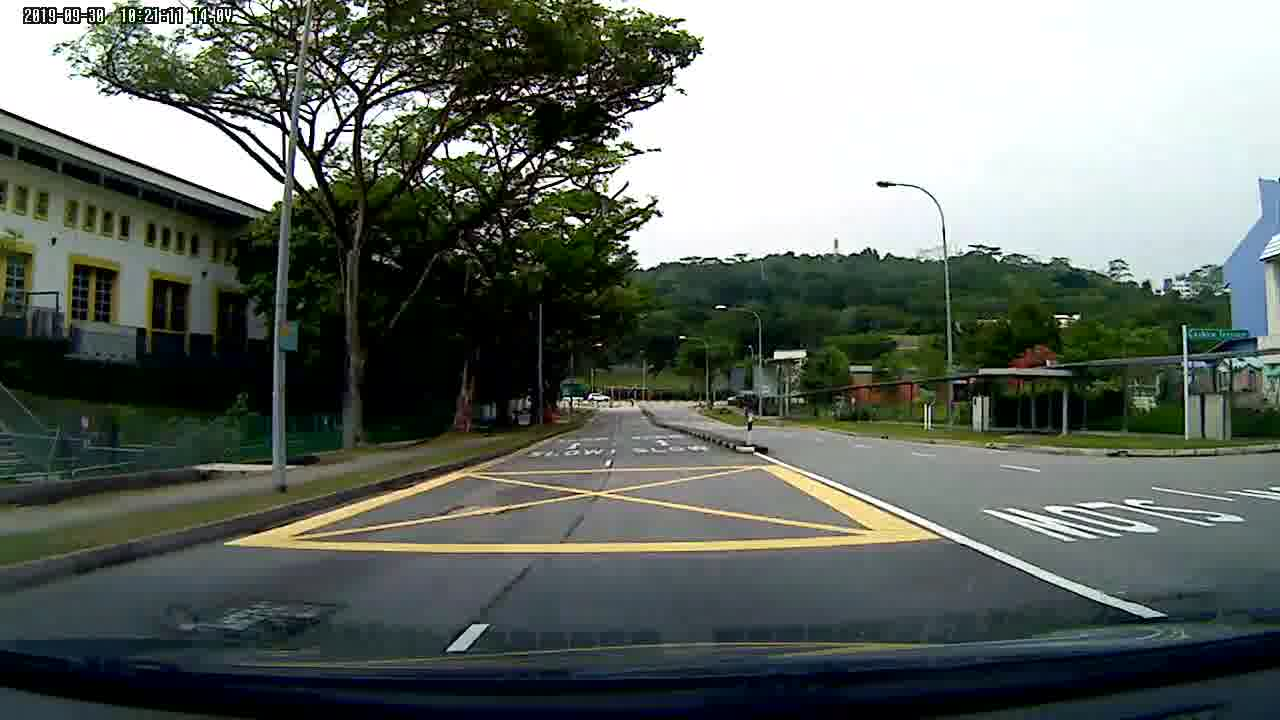car: (589, 392, 611, 404)
